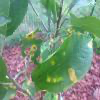Apple rust leaf: (31, 32, 96, 97)
